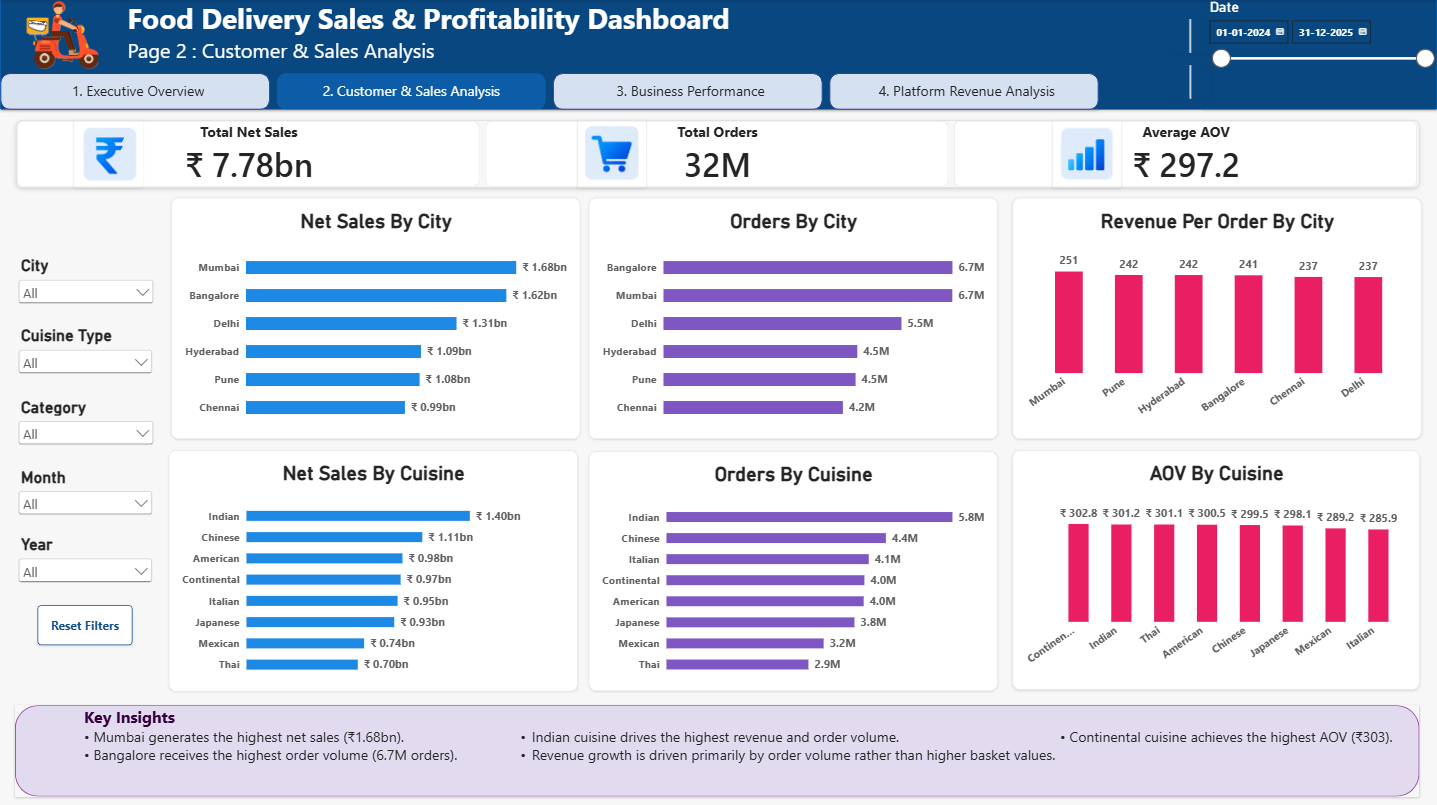

The dashboard page shown, as its layout file describes it:
{"tool":"powerbi","page":{"name":"2. Customer & Sales Analysis","canvas":[1920,1080],"ordinal":1},"visuals":[{"type":"shape","box":[0,0,1920,148],"z":0},{"type":"cardVisual","fields":{"Data":["daily_sales.Total Net Sales","daily_sales.Total Orders","daily_sales.Average AOV"]},"box":[22,162,1874,90],"z":1000},{"type":"clusteredBarChart","title":"Net Sales By City","fields":{"Y":["daily_sales.Total Net Sales"],"Category":["daily_sales.City"]},"box":[228,266,546,322],"z":2000},{"type":"clusteredBarChart","title":"Net Sales By Cuisine","fields":{"Y":["daily_sales.Total Net Sales"],"Category":["daily_sales.Cuisine_Type"]},"box":[226,602,546,322],"z":3000},{"type":"clusteredBarChart","title":"Orders By City","fields":{"Y":["daily_sales.Total Orders"],"Category":["daily_sales.City"]},"box":[786,266,546,322],"z":4000},{"type":"clusteredBarChart","title":"Orders By Cuisine","fields":{"Y":["daily_sales.Total Orders"],"Category":["daily_sales.Cuisine_Type"]},"box":[786,604,546,320],"z":5000},{"type":"clusteredColumnChart","title":"Revenue Per Order By City","fields":{"Category":["daily_sales.City"],"Y":["daily_sales.Revenue Per Order"]},"box":[1352,266,546,322],"z":6000},{"type":"clusteredColumnChart","title":"AOV By Cuisine","fields":{"Category":["daily_sales.Cuisine_Type"],"Y":["daily_sales.Average AOV"]},"box":[1352,602,544,320],"z":7000},{"type":"slicer","fields":{"Values":["daily_sales.City"]},"box":[20,344,190,94],"z":8000},{"type":"slicer","fields":{"Values":["daily_sales.Cuisine_Type"]},"box":[20,438,188,94],"z":9000},{"type":"slicer","fields":{"Values":["daily_sales.Month"]},"box":[20,626,188,94],"z":10000},{"type":"slicer","fields":{"Values":["daily_sales.Category"]},"box":[20,532,190,94],"z":11000},{"type":"slicer","fields":{"Values":["daily_sales.Year"]},"box":[20,716,188,94],"z":12000},{"type":"textbox","box":[2,0,1918,148],"z":13000},{"type":"pageNavigator","box":[0,98,1468,50],"z":14000},{"type":"slicer","fields":{"Values":["daily_sales.Date"]},"box":[1608,0,312,148],"z":15000},{"type":"image","box":[0,0,164,98],"z":16000},{"type":"image","box":[98,162,92,90],"z":17000},{"type":"image","box":[1406,162,92,90],"z":18000},{"type":"image","box":[772,162,92,90],"z":19000},{"type":"shape","box":[20,944,1876,122],"z":20000},{"type":"textbox","box":[20,944,1876,122],"z":21000},{"type":"shape","box":[1560.8,88.5,57.7,44.6],"z":22000},{"type":"shape","box":[1566,26,47.3,45.3],"z":23000},{"type":"actionButton","box":[49.7,809.8,127,53.4],"z":24000}]}

Visuals, with their boxes in screenshot pixels (x1, y1, x2, y2), scaled from the page's 1920x1080 canvas onto the 1437x805 screenshot:
shape: 0,0,1436,110
cardVisual - daily_sales.Total Net Sales x daily_sales.Total Orders: 16,121,1419,188
"Net Sales By City" clusteredBarChart: 171,198,579,438
"Net Sales By Cuisine" clusteredBarChart: 169,449,578,689
"Orders By City" clusteredBarChart: 588,198,997,438
"Orders By Cuisine" clusteredBarChart: 588,450,997,689
"Revenue Per Order By City" clusteredColumnChart: 1012,198,1421,438
"AOV By Cuisine" clusteredColumnChart: 1012,449,1419,687
slicer - daily_sales.City: 15,256,157,326
slicer - daily_sales.Cuisine_Type: 15,326,156,397
slicer - daily_sales.Month: 15,467,156,537
slicer - daily_sales.Category: 15,397,157,467
slicer - daily_sales.Year: 15,534,156,604
textbox: 1,0,1436,110
pageNavigator: 0,73,1099,110
slicer - daily_sales.Date: 1203,0,1436,110
image: 0,0,123,73
image: 73,121,142,188
image: 1052,121,1121,188
image: 578,121,647,188
shape: 15,704,1419,795
textbox: 15,704,1419,795
shape: 1168,66,1211,99
shape: 1172,19,1207,53
actionButton: 37,604,132,643
